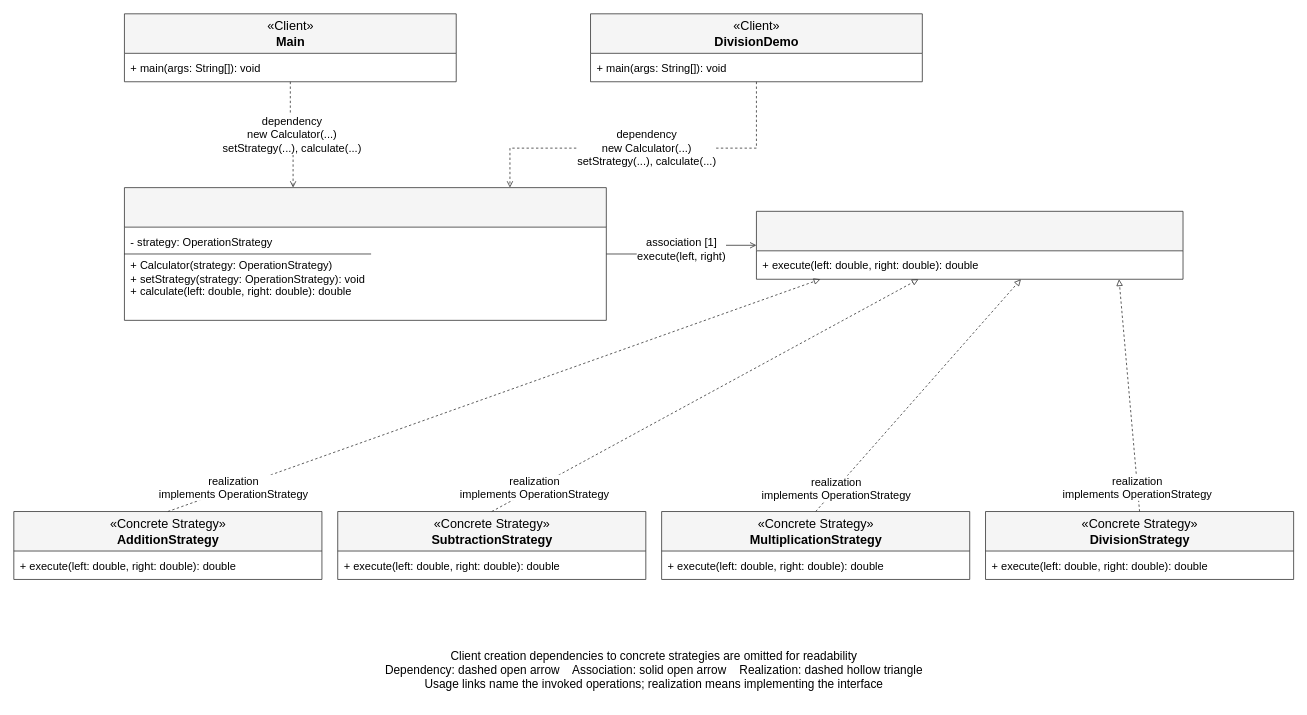
This 1307x715 diagram has some shape labels left out. Each missing label, with the box of its shape:
«Context» Calculator: (124, 187, 606, 320)
«interface» OperationStrategy: (756, 211, 1183, 279)
